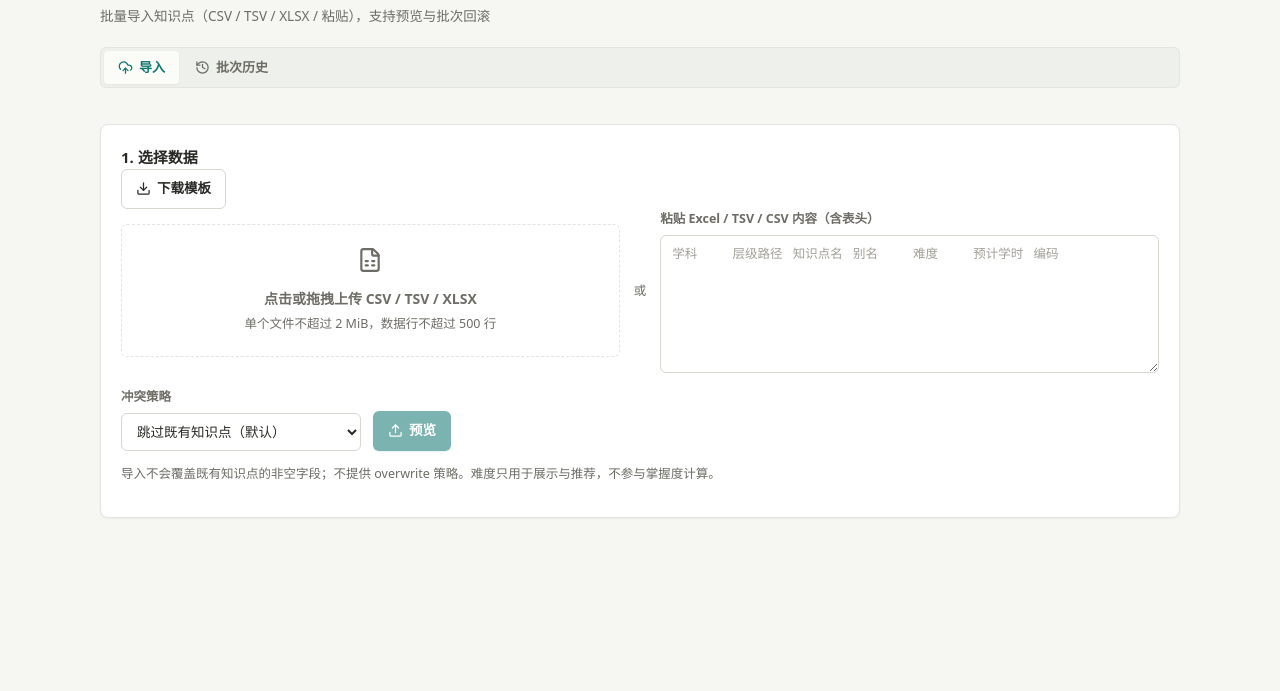
it: AdminKnowledgeImportView › 校验未通过时展示整批级问题、行级问题与完整环路径
Type "a" into the text box with class "imp-paste". click: x=910, y=304
box: [660, 235, 1159, 373]
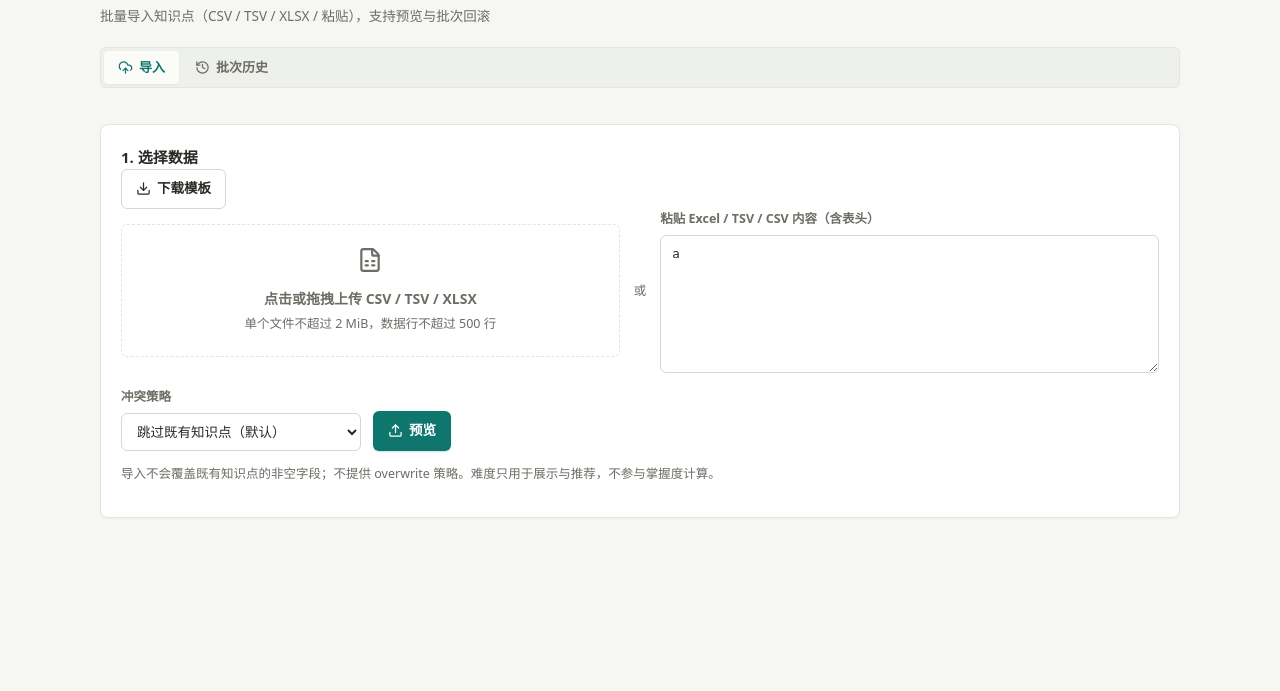
Click the button "预览". click: x=412, y=431
box: [373, 411, 451, 451]
(page scrolled)
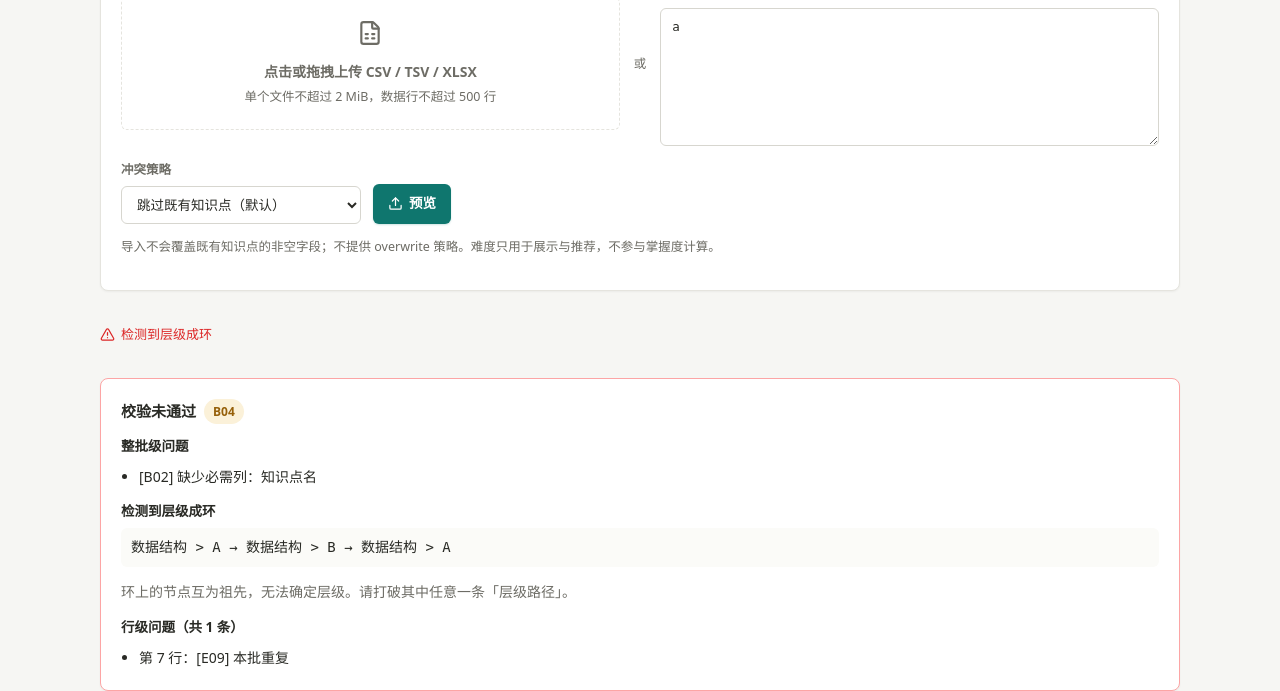
Now the text "校验未通过" is shown, box [121, 401, 196, 421]
Now the text "B04" is shown, box [204, 399, 244, 424]
Now the text "[B02] 缺少必需列：知识点名" is shown, box [139, 467, 317, 486]
